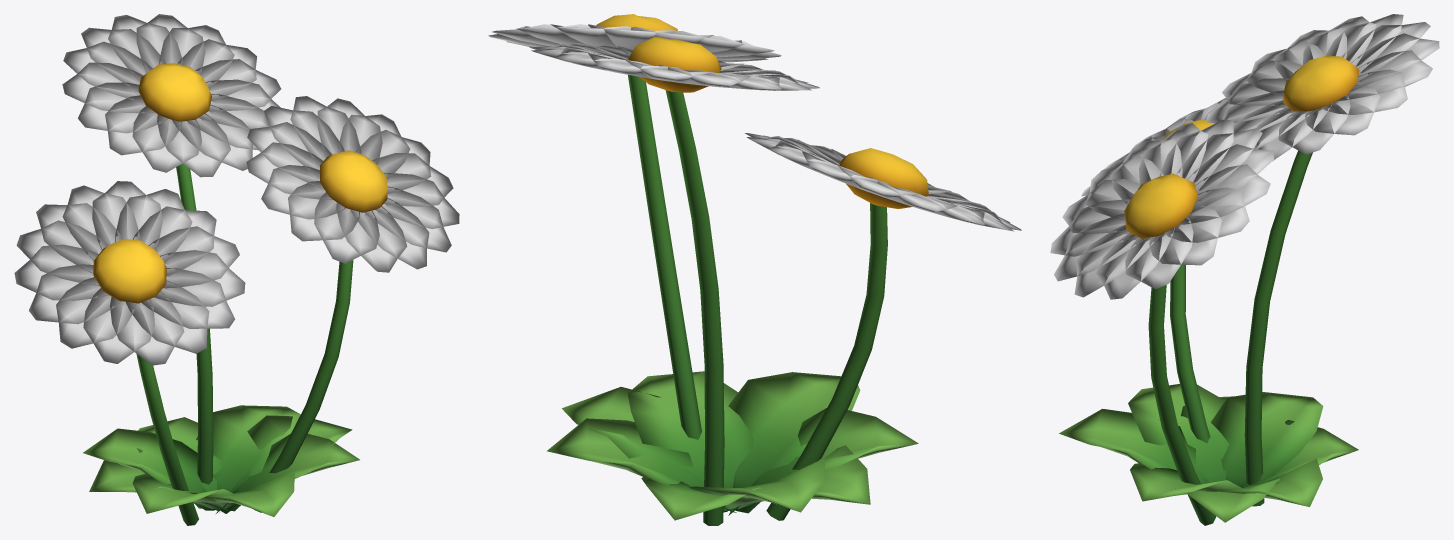
File: flower_daisy.glb
3 views of the same model, side by side, from view 1: azimuth 30°, elevation 25°; view 2: azimuth 150°, elevation 25°; view 3: azimuth 270°, elevation 25° (orthographic). The views are drawn at different scales.
Parts seen in each view (by area): view 1: flower_daisy_top, flower_daisy; view 2: flower_daisy, flower_daisy_top; view 3: flower_daisy, flower_daisy_top.
Part boxes in pixels (left/top/right/bottom): flower_daisy_top: left=14, top=14, right=459, bottom=365; flower_daisy: left=83, top=63, right=387, bottom=525; flower_daisy: left=547, top=14, right=928, bottom=525; flower_daisy_top: left=488, top=24, right=1021, bottom=231; flower_daisy: left=1059, top=55, right=1359, bottom=525; flower_daisy_top: left=1050, top=14, right=1439, bottom=299.
Size of the model in its own units: 0.3559 by 0.3539 by 0.2696.
